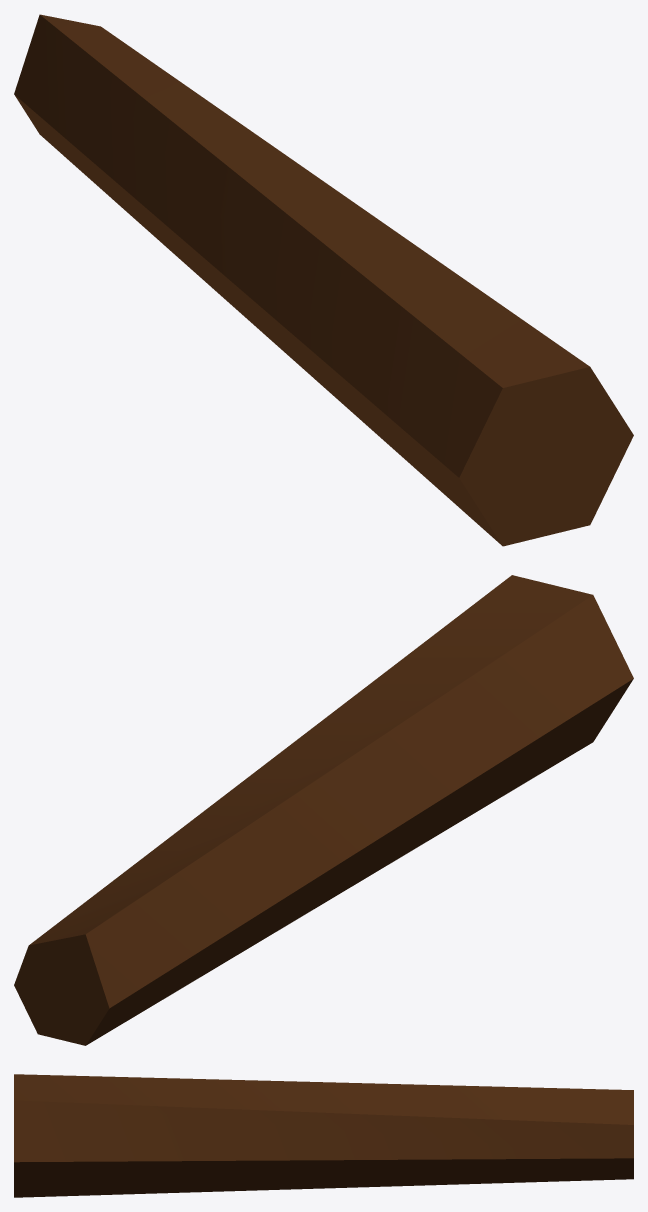
The model's file is stick_01_b.fbx.
3 renders of one model, top to bottom at view 1: azimuth 30°, elevation 25°; view 2: azimuth 150°, elevation 25°; view 3: azimuth 270°, elevation 25°, orthographic. The views are drawn at different scales.
Visible parts, largest first — view 1: Stick_01_b; view 2: Stick_01_b; view 3: Stick_01_b.
Boxes of the visible parts, x1,y1,x2,y2 form: Stick_01_b: (14,14,633,546); Stick_01_b: (14,575,633,1045); Stick_01_b: (14,1074,633,1197).
Size of the model in its own units: 3.15 by 15.75 by 2.73.
